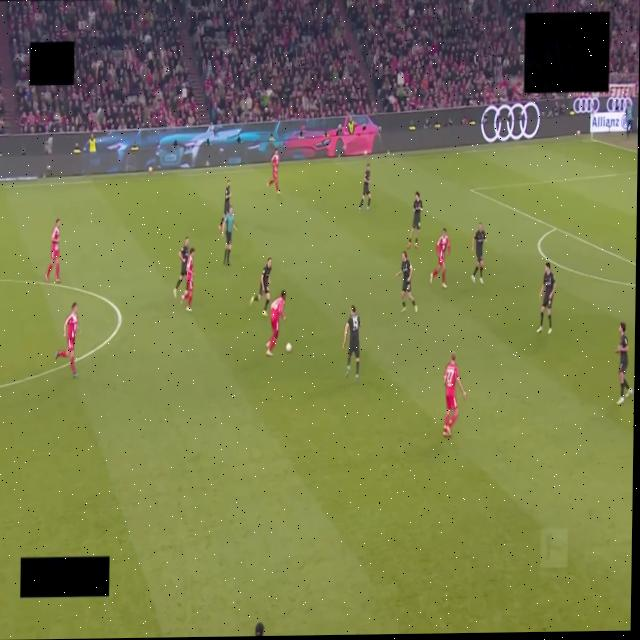ball: (286, 344, 291, 352)
player: (443, 351, 467, 437), (56, 303, 79, 378), (616, 323, 633, 405), (537, 263, 555, 334), (343, 306, 360, 380), (397, 251, 417, 312), (250, 258, 271, 316), (267, 291, 286, 355), (431, 228, 449, 288), (46, 218, 60, 283), (180, 248, 194, 311), (407, 191, 422, 249), (472, 223, 486, 284), (174, 237, 188, 296), (219, 181, 231, 232), (267, 149, 280, 195), (359, 164, 371, 212), (625, 100, 633, 138)
referee: (222, 206, 237, 266)
